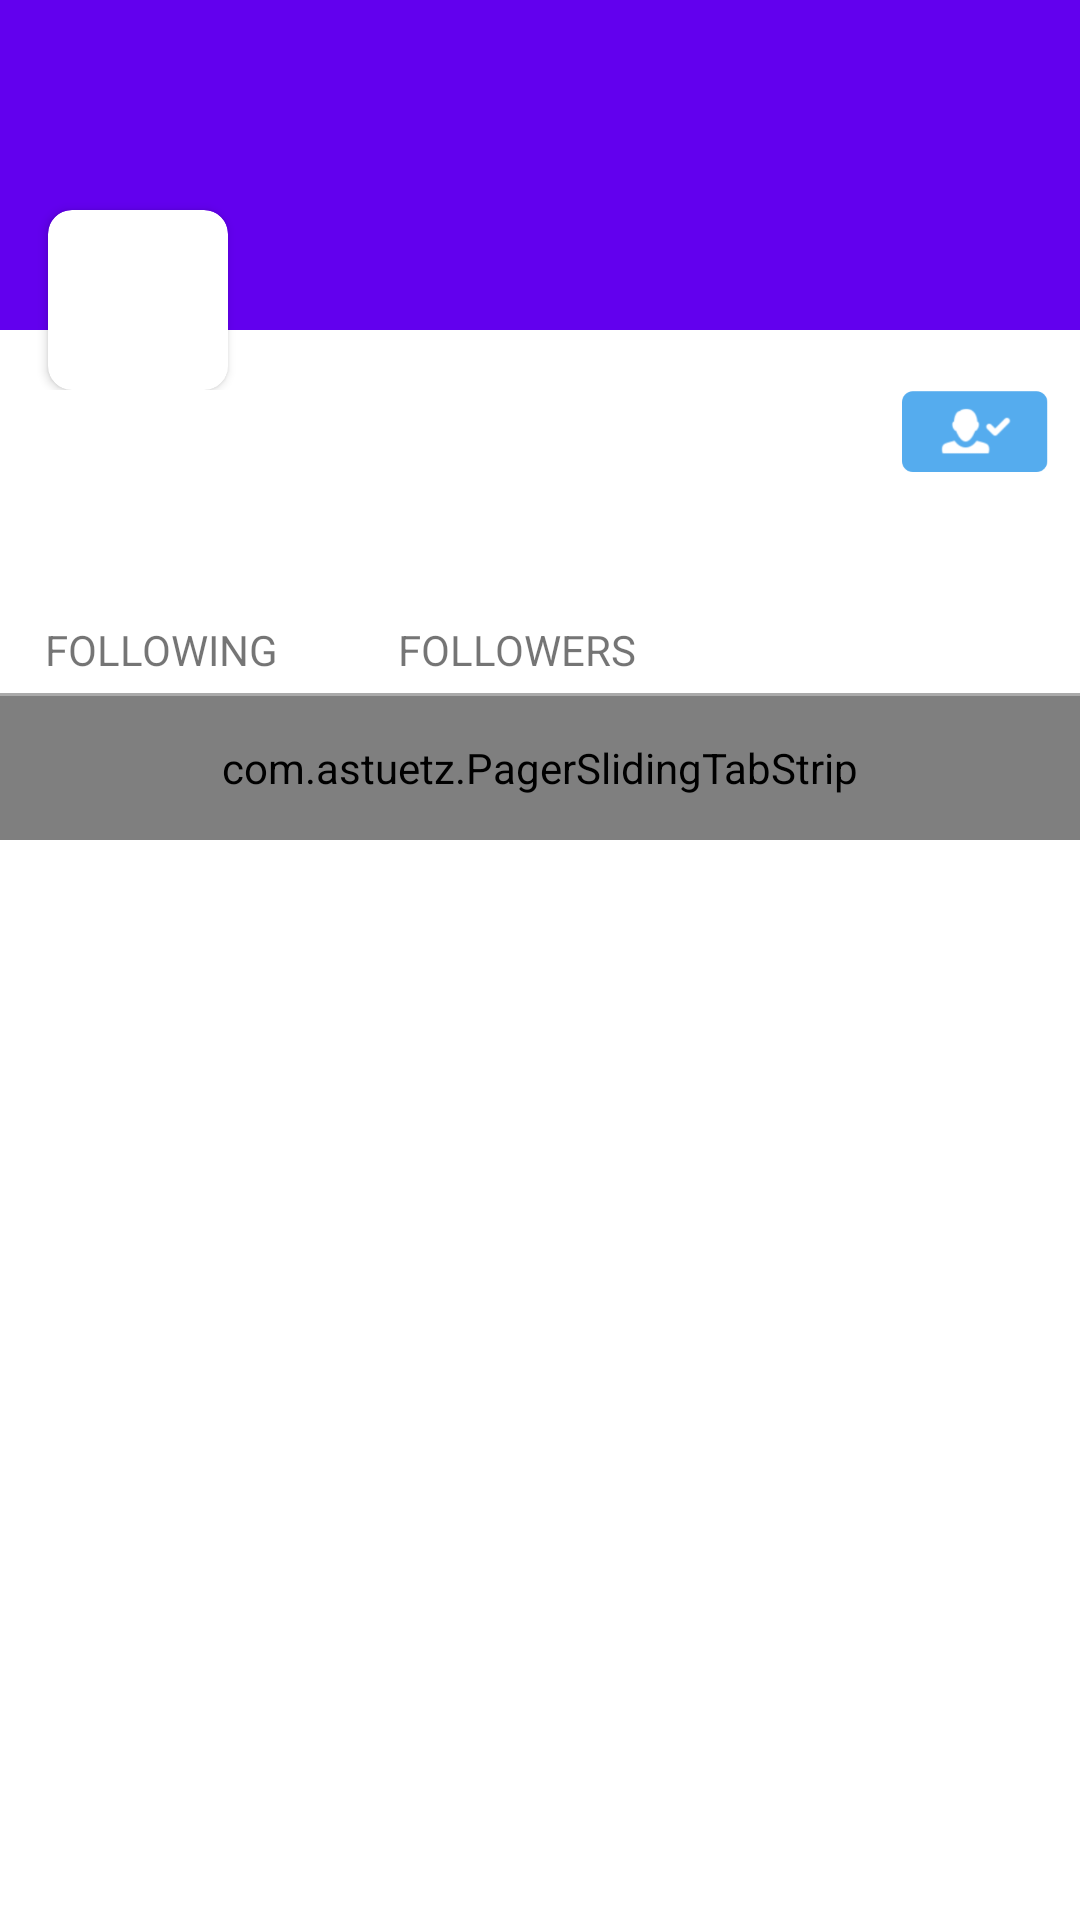

Screen size 1080×1920. Icon name, then its center in pixels as point (x, y):
friends: point (975, 431)
